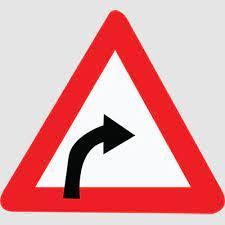Right Hand Curve: (14, 17, 203, 212)
